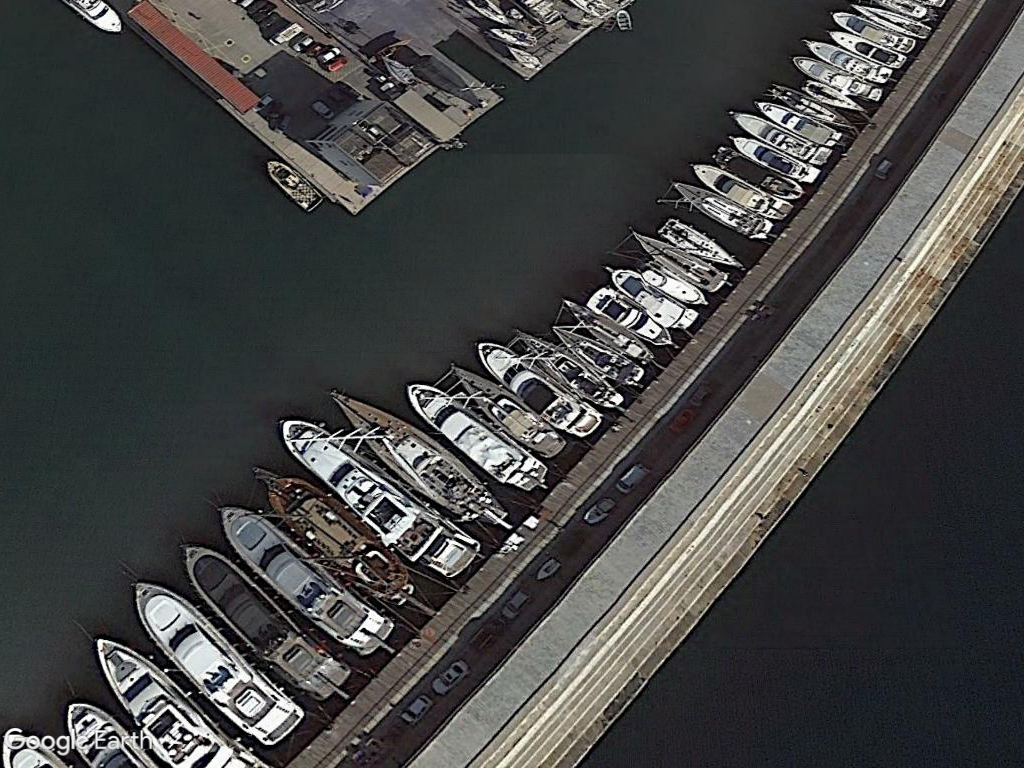boat: (258, 159, 325, 216)
